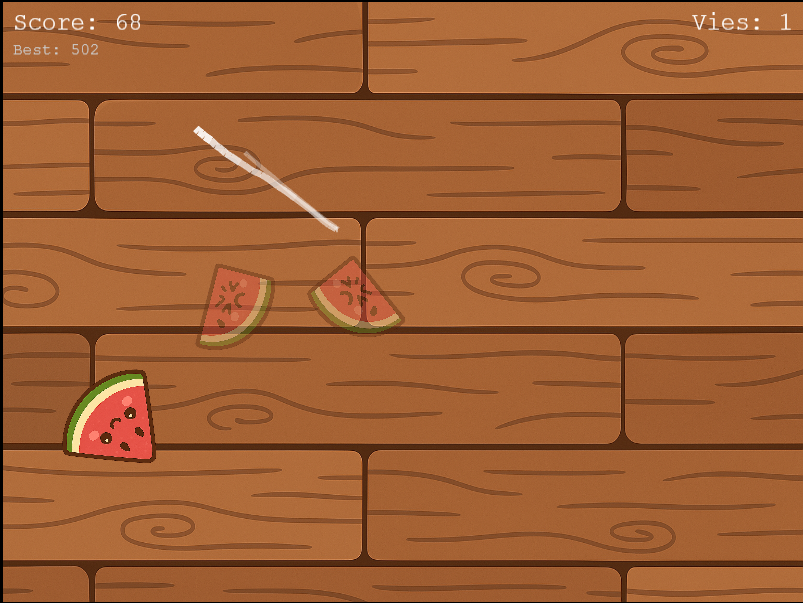fruit: (60, 365, 162, 468)
